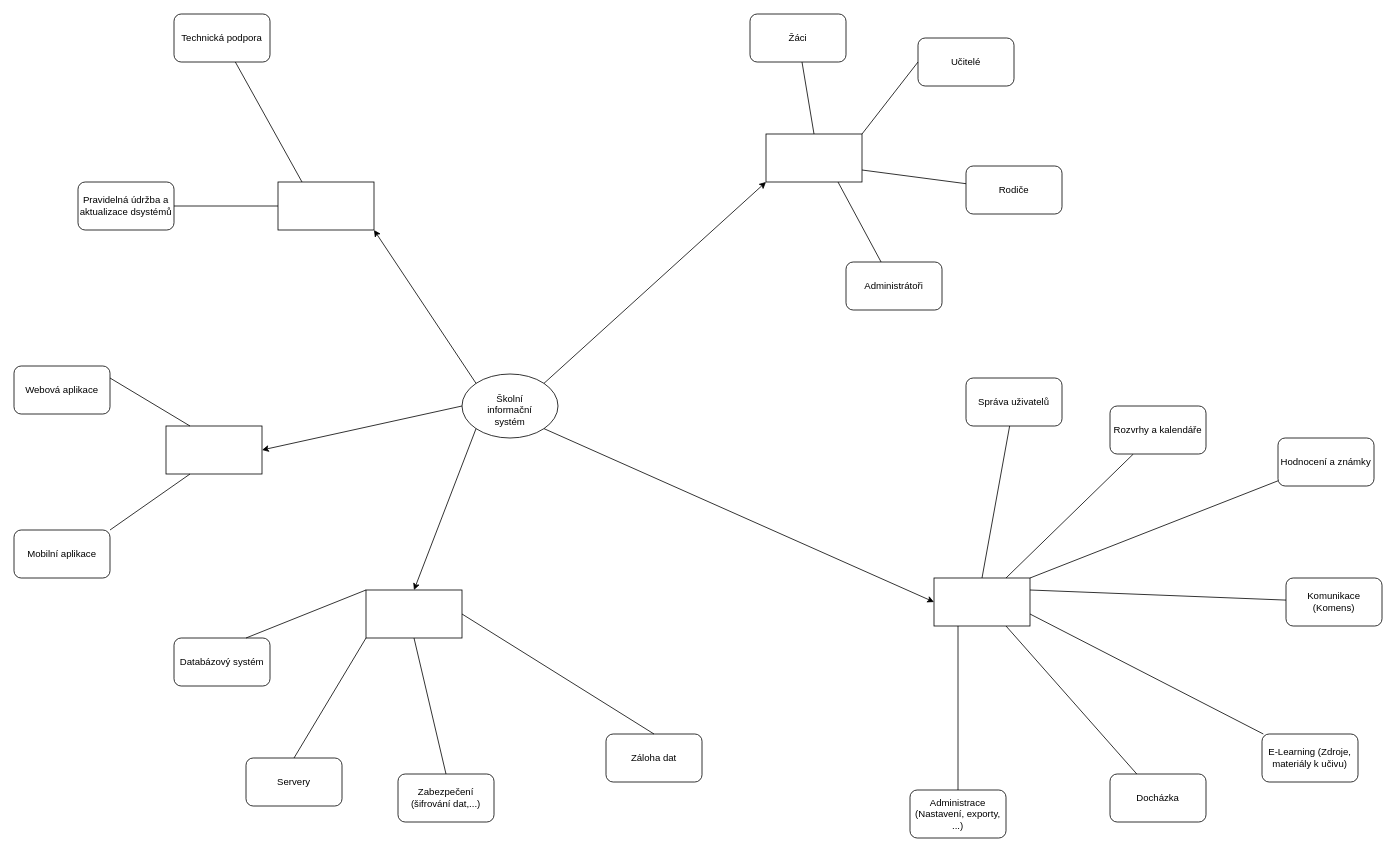
Some shapes in this 1396 by 852 pixel diagram are drawn without their labels. Each missing label, with the centre of its shape:
"Integrace a přístup" belongs at [213,449].
"Moduly systému" belongs at [981,601].
"Podpora a služba" belongs at [325,205].
"Technické zajištění" belongs at [413,613].
"Uživatelské role" belongs at [813,157].
